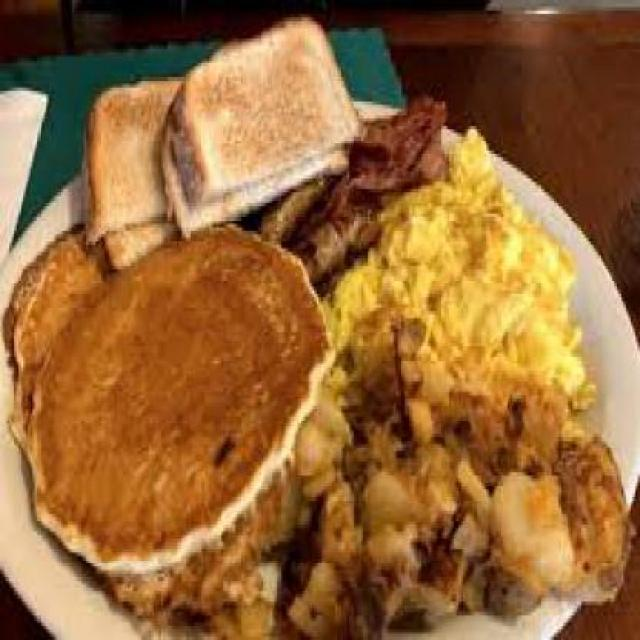french toast: (75, 14, 352, 220)
omelette: (345, 137, 589, 386)
pancakes: (2, 224, 324, 570)
